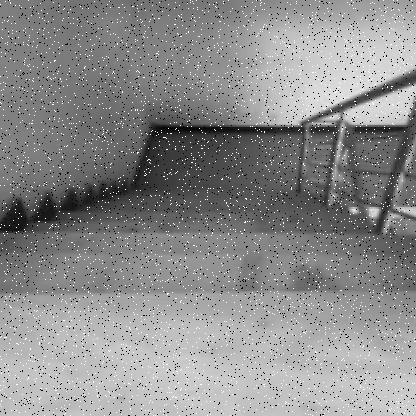stair_down: (34, 187, 312, 366)
